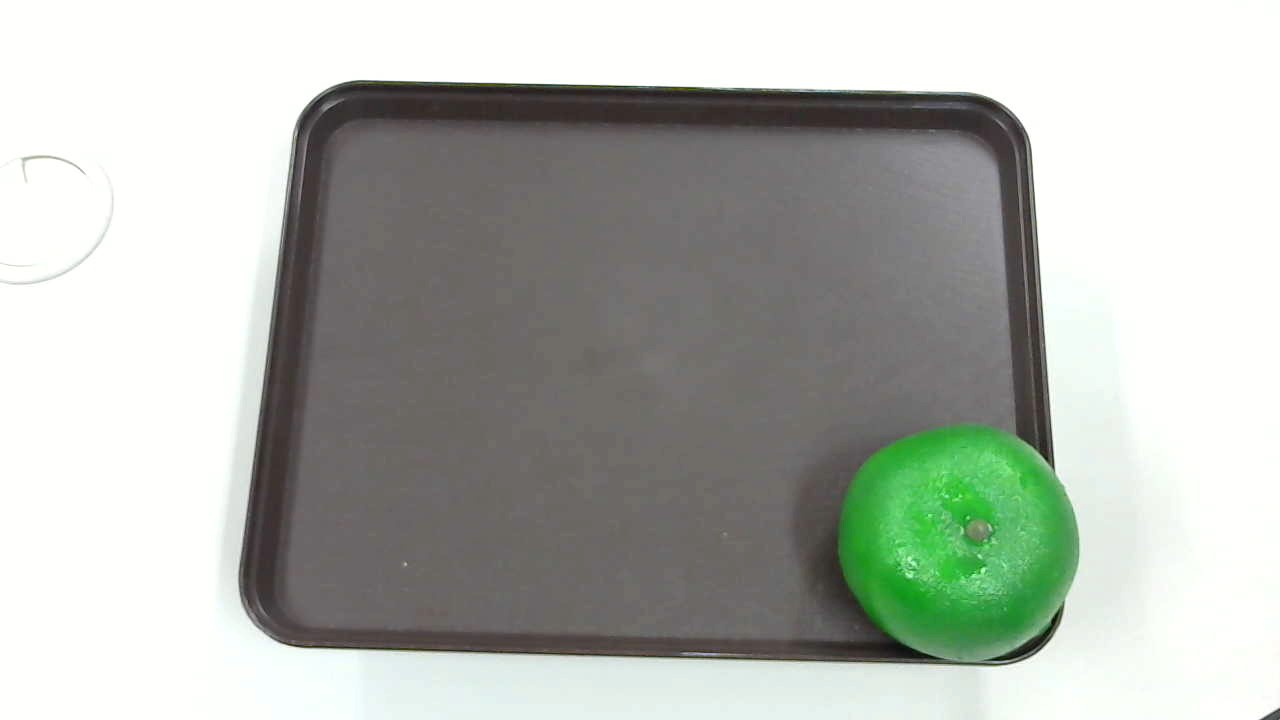green orange: (839, 420, 1081, 663)
